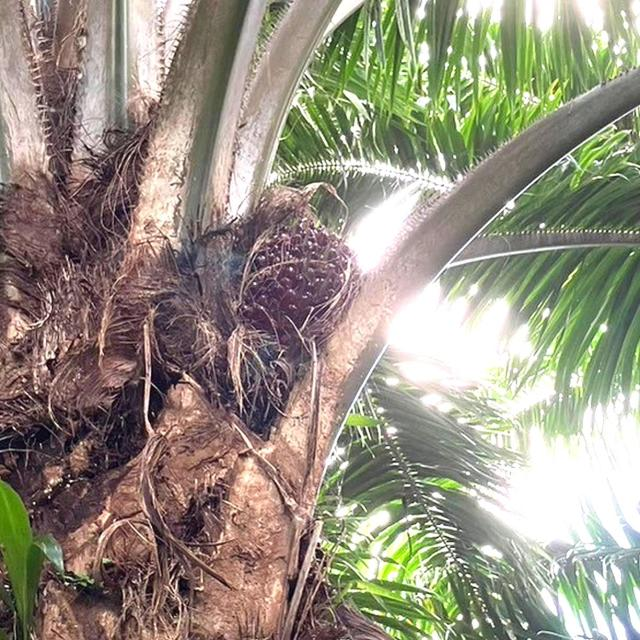ripe: (220, 198, 367, 370)
